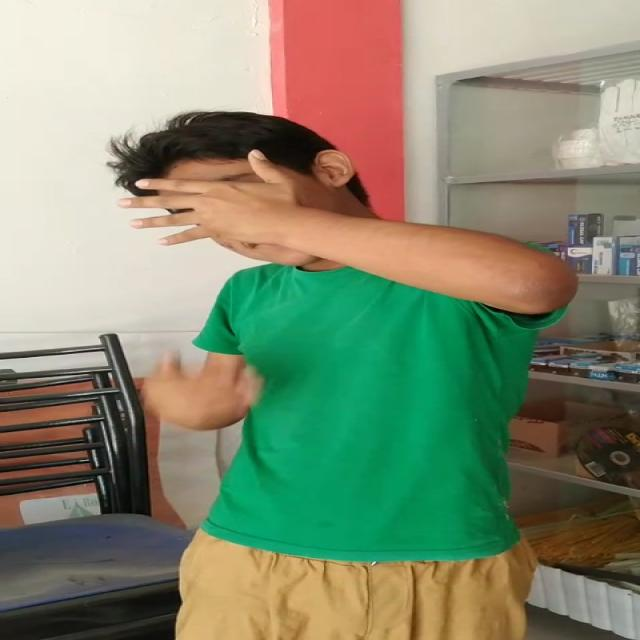7_mano_rostro: (118, 154, 371, 265)
